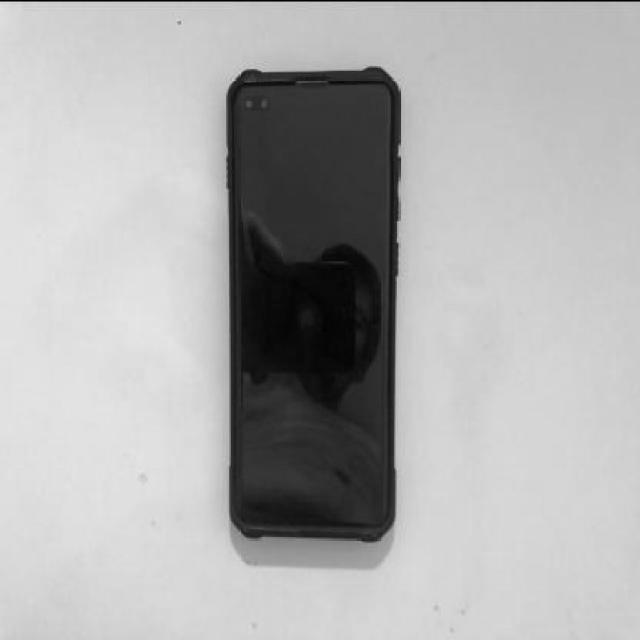fake: (227, 66, 401, 540)
